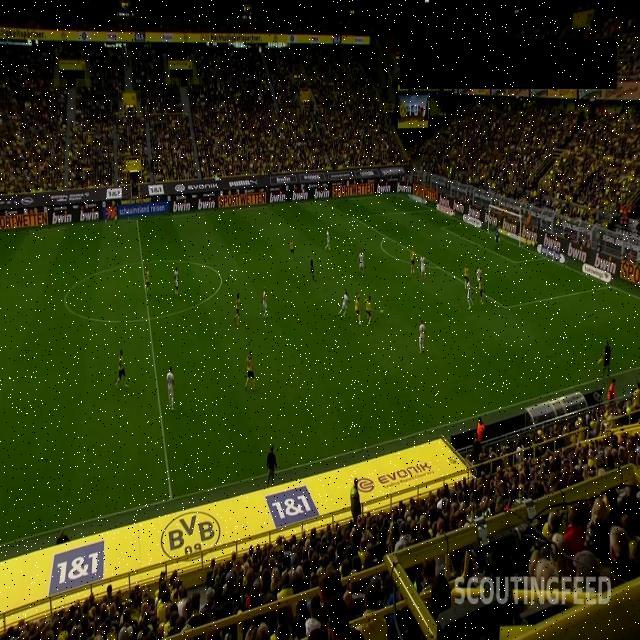Ball: (380, 308, 384, 316)
Corner: (396, 177, 402, 198)
GoalKeeper: (494, 226, 502, 254)
Referee: (597, 340, 612, 378), (115, 201, 122, 223), (309, 258, 315, 282)
TEAM 1: (115, 348, 129, 389), (245, 350, 257, 392), (365, 294, 373, 326), (354, 294, 362, 326), (462, 262, 470, 292), (234, 293, 241, 327), (478, 275, 484, 305), (144, 265, 150, 295), (410, 247, 416, 275), (289, 237, 295, 262)
TEAM 2: (166, 366, 176, 412), (338, 290, 350, 318), (418, 318, 426, 354), (466, 279, 474, 310), (173, 266, 180, 296), (263, 288, 269, 320), (420, 254, 426, 282), (476, 265, 482, 293), (358, 250, 364, 276), (325, 230, 331, 250)
